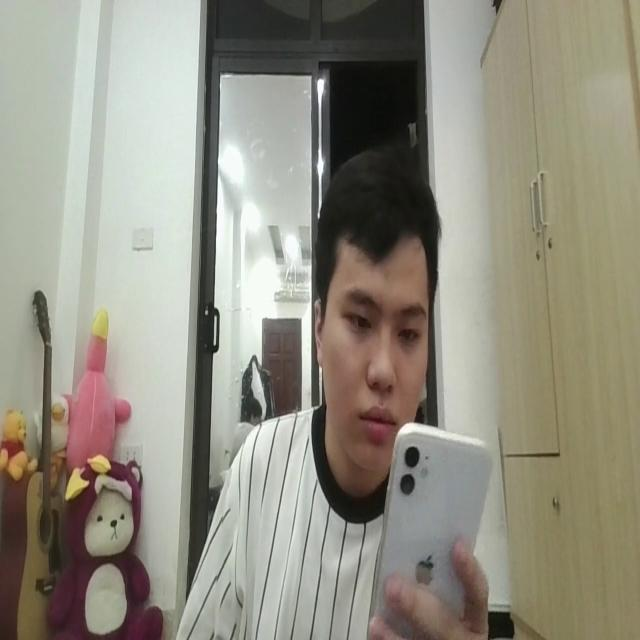phone: (370, 416, 491, 640)
student: (177, 152, 493, 640)
